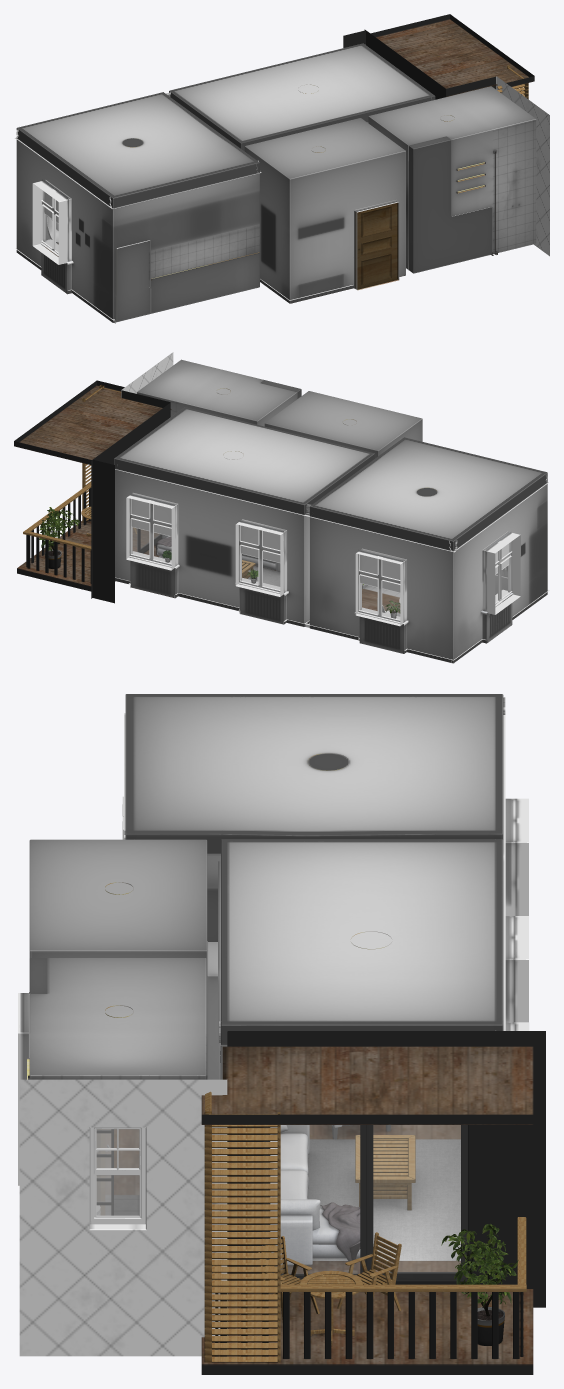
File: flat_env.obj
3 renders of one model, top to bottom at view 1: azimuth 30°, elevation 25°; view 2: azimuth 150°, elevation 25°; view 3: azimuth 270°, elevation 25°, orthographic. The views are drawn at different scales.
Parts seen in each view (by area): view 1: Cube.001_walls_0, Cube.009_walls_0, Cube.040_walls_0, Cube.010_walls_0, Cube.021_hallway_0, Cube.021_glass_0, Cube.006_walls_0; view 2: Cube.001_walls_0, Cube.009_walls_0, Cube.040_walls_0, Cube.027_walls_0, Cube.052_glass_0, Cube.016_glass_0, Cube.013_glass_0, Cube.016_hallway_0, Cube.013_hallway_0, Cube.052_hallway_0, Cube.056_living_room_0, Cube.028_living_room_0 (+6 smaller); view 3: Cube.001_walls_0, Cube.040_walls_0, Cube.009_walls_0, Cube.050_glass_0, Cube.073_living_room_0, Cube.027_walls_0, Plane_living_room_0, Cube.028_living_room_0, Cube.037_living_room_0, pachira_aquatica_01_bark_c.001_plants_0, Cube.054_glass_0, Cube.031_hallway_0 (+9 smaller).
Part boxes in pixels (x1,y1,x2,y2): Cube.001_walls_0: (16, 43, 536, 322); Cube.009_walls_0: (370, 14, 534, 96); Cube.040_walls_0: (343, 29, 549, 256); Cube.010_walls_0: (355, 202, 398, 289); Cube.021_hallway_0: (40, 179, 73, 264); Cube.021_glass_0: (43, 191, 58, 251); Cube.006_walls_0: (14, 44, 432, 208); Cube.001_walls_0: (114, 359, 547, 663); Cube.009_walls_0: (14, 380, 171, 464); Cube.040_walls_0: (91, 352, 173, 603); Cube.027_walls_0: (17, 518, 159, 591); Cube.052_glass_0: (131, 499, 171, 562); Cube.016_glass_0: (360, 555, 399, 619); Cube.013_glass_0: (241, 526, 279, 589); Cube.016_hallway_0: (354, 549, 408, 625); Cube.013_hallway_0: (235, 520, 288, 595); Cube.052_hallway_0: (129, 493, 179, 568); Cube.056_living_room_0: (23, 531, 91, 583); Cube.028_living_room_0: (23, 482, 91, 567); Cube.001_walls_0: (18, 694, 529, 1273); Cube.040_walls_0: (19, 1031, 545, 1356); Cube.009_walls_0: (201, 1046, 533, 1124); Cube.050_glass_0: (270, 1125, 460, 1273); Cube.073_living_room_0: (204, 1091, 280, 1362); Cube.027_walls_0: (201, 1289, 533, 1374); Plane_living_room_0: (307, 1139, 460, 1260); Cube.028_living_room_0: (213, 1284, 526, 1358); Cube.037_living_room_0: (270, 1125, 360, 1265); pachira_aquatica_01_bark_c.001_plants_0: (441, 1224, 518, 1345); Cube.054_glass_0: (95, 1129, 140, 1217); Cube.031_hallway_0: (262, 1125, 467, 1279).
Bounding box in the file's own units: 12.95 × 3.85 × 6.66.
Materials: 6 (5 with a texture image).
